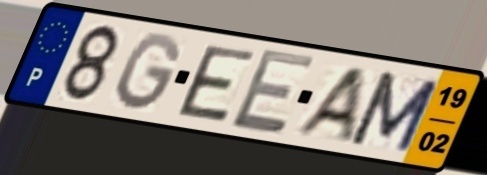8: (59, 21, 125, 105)
A: (288, 65, 370, 142)
E: (227, 45, 319, 136), (174, 43, 259, 126)
G: (112, 31, 184, 115)
M: (345, 67, 444, 155)
